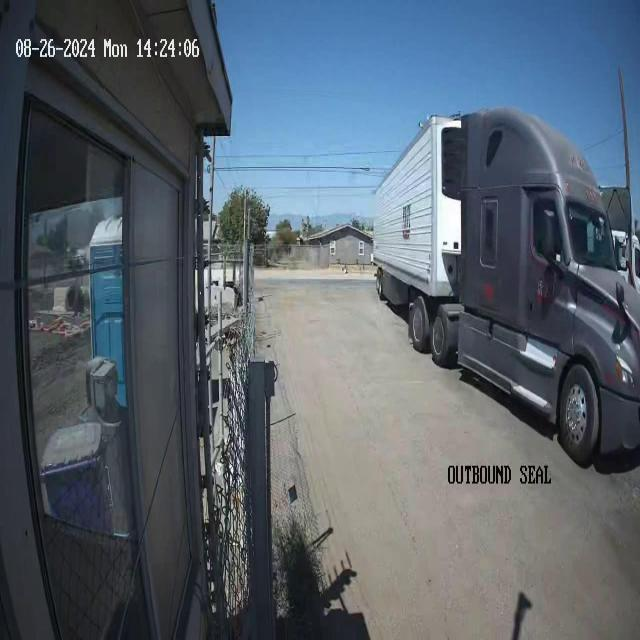TRUCK_IN: (372, 103, 639, 470)
